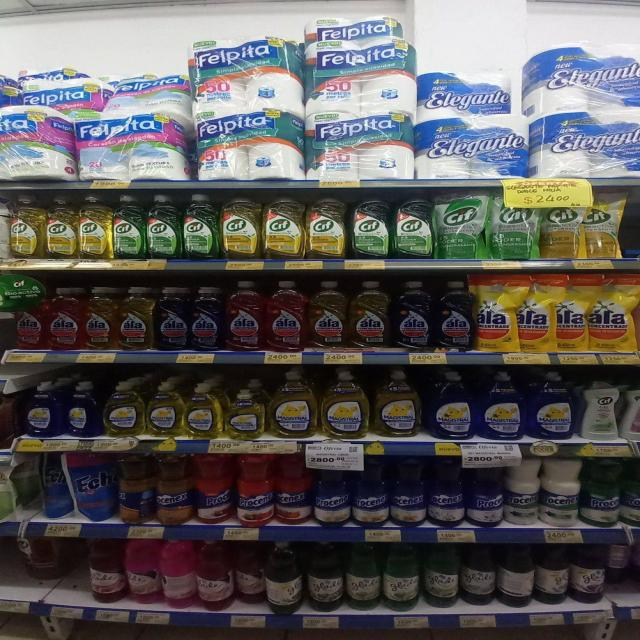ala_conc_amarillo: (308, 280, 347, 351), (350, 280, 390, 349), (118, 286, 154, 350), (84, 286, 117, 350)
ala_conc_azul: (392, 280, 434, 351), (435, 280, 473, 352), (189, 285, 223, 351), (155, 286, 188, 350)
ala_conc_rojo: (264, 279, 306, 353), (225, 280, 263, 352), (47, 287, 83, 351), (15, 298, 46, 351)
ala_sachet_amarillo: (590, 273, 638, 352), (475, 274, 517, 352), (519, 273, 555, 352), (555, 273, 589, 352)
cif_conc_bot_amarilla: (306, 194, 348, 259), (262, 195, 304, 259), (221, 194, 261, 260), (10, 193, 44, 259), (78, 193, 111, 260), (45, 194, 77, 259)
cif_conc_botella_verde: (348, 193, 391, 259), (392, 192, 434, 259), (182, 193, 220, 260), (147, 193, 180, 260), (112, 194, 144, 259)
cif_conc_sachet_amarillo: (582, 188, 623, 258), (541, 198, 581, 259)
cif_conc_sachet_verde: (436, 187, 486, 259), (488, 190, 538, 260)
heroe: (286, 628, 328, 640)
magistral_con_amarillo: (268, 369, 318, 438), (322, 368, 370, 439), (373, 368, 422, 437), (104, 380, 145, 437), (225, 387, 266, 440), (185, 382, 223, 439), (146, 381, 184, 437)
magistral_con_azul: (426, 370, 475, 440), (527, 371, 576, 440), (477, 370, 525, 440), (23, 381, 62, 438), (65, 380, 101, 438)
